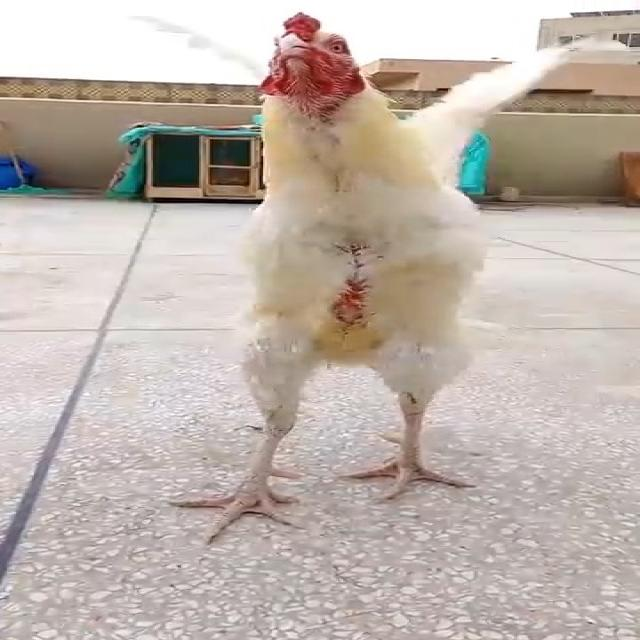wing flap: (96, 0, 587, 548)
